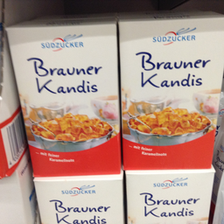sugar: (5, 17, 122, 177), (118, 12, 224, 171)
